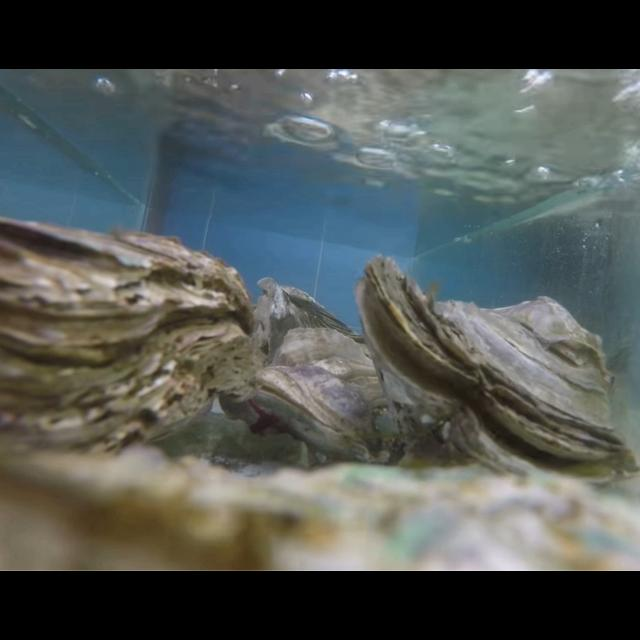Oyster-Closed: (0, 444, 640, 572), (0, 218, 254, 482), (254, 278, 370, 369)
Oyster-Open: (354, 255, 640, 491), (250, 328, 408, 467)
